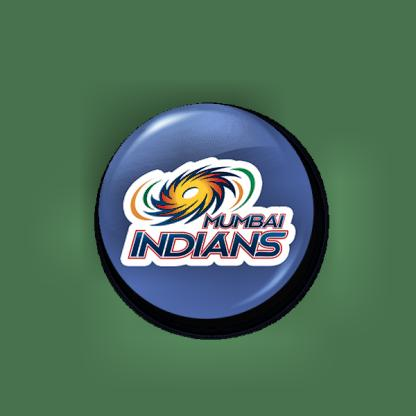Mumbai Indians: (122, 156, 297, 269)
